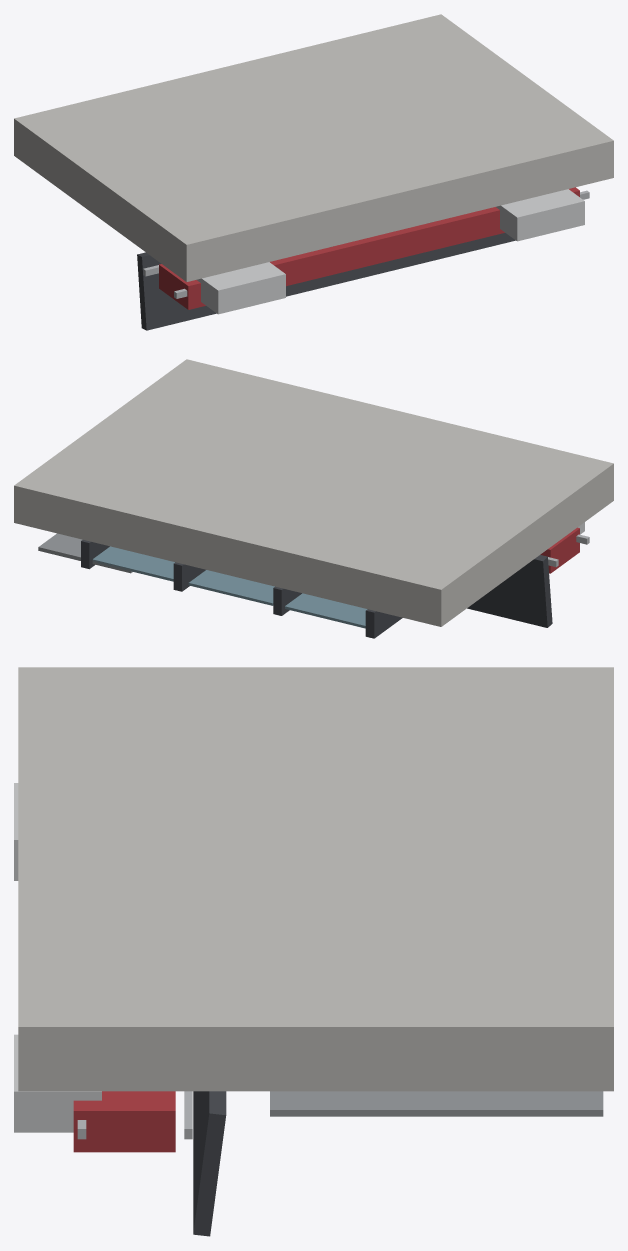
File: SM_Yilan_Storefront_6m_HQ.glb
3 views of the same model, one above another, from view 1: azimuth 30°, elevation 25°; view 2: azimuth 150°, elevation 25°; view 3: azimuth 270°, elevation 25° (orthographic). The views are drawn at different scales.
Parts seen in each view (by area): view 1: facade_shell, signbox, awning, ac_case_-2.1, ac_case_2.1; view 2: facade_shell, awning, glass_0, glass_-1.35, glass_1.35, roller_shutter, signbox, column_0, column_2, column_1, column_3; view 3: facade_shell, roller_shutter, signbox, awning, ac_case_2.1.
Boxes of the visible parts, x1=… form: facade_shell: x1=14, y1=14, x2=613, y2=281; signbox: x1=159, y1=187, x2=579, y2=309; awning: x1=137, y1=233, x2=515, y2=330; ac_case_-2.1: x1=196, y1=262, x2=285, y2=314; ac_case_2.1: x1=496, y1=189, x2=584, y2=241; facade_shell: x1=14, y1=359, x2=613, y2=626; awning: x1=467, y1=555, x2=552, y2=627; glass_0: x1=188, y1=570, x2=274, y2=605; glass_-1.35: x1=285, y1=593, x2=367, y2=628; glass_1.35: x1=92, y1=546, x2=174, y2=581; roller_shutter: x1=38, y1=533, x2=132, y2=573; signbox: x1=540, y1=527, x2=579, y2=573; column_0: x1=365, y1=609, x2=402, y2=638; column_2: x1=173, y1=562, x2=205, y2=591; column_1: x1=273, y1=586, x2=301, y2=615; column_3: x1=81, y1=540, x2=109, y2=569; facade_shell: x1=18, y1=667, x2=613, y2=1091; roller_shutter: x1=270, y1=1091, x2=603, y2=1116; signbox: x1=73, y1=1091, x2=175, y2=1152; awning: x1=193, y1=1091, x2=226, y2=1236; ac_case_2.1: x1=14, y1=1034, x2=101, y2=1132.
Size of the model in its own units: 6 by 1.7 by 4.23.
